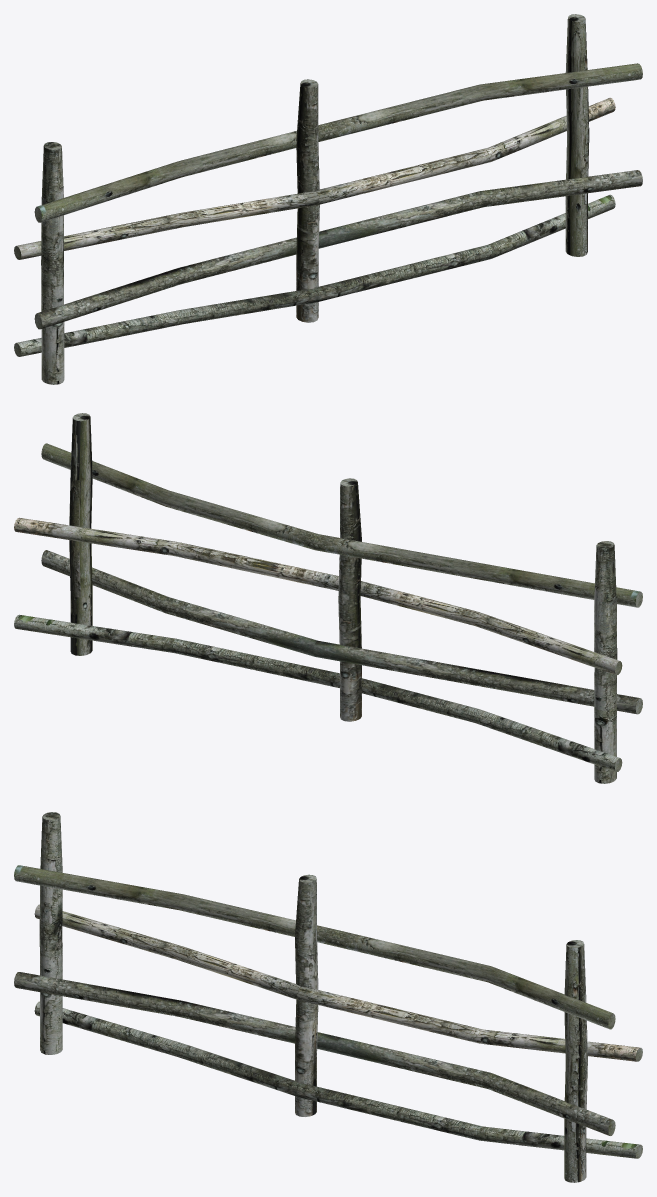
Rendered from fence1.obj.
The picture shows the model from 3 angles, top to bottom: view 1: azimuth 30°, elevation 25°; view 2: azimuth 150°, elevation 25°; view 3: azimuth 330°, elevation 25°; orthographic projection.
Visible parts, largest first — view 1: fence; view 2: fence; view 3: fence.
Part boxes in pixels (left/top/right/bottom): fence: left=14, top=14, right=642, bottom=384; fence: left=14, top=413, right=642, bottom=783; fence: left=14, top=812, right=642, bottom=1182.
Size of the model in its own units: 116 by 43.34 by 11.69.
Materials: 1 (1 with a texture image).
